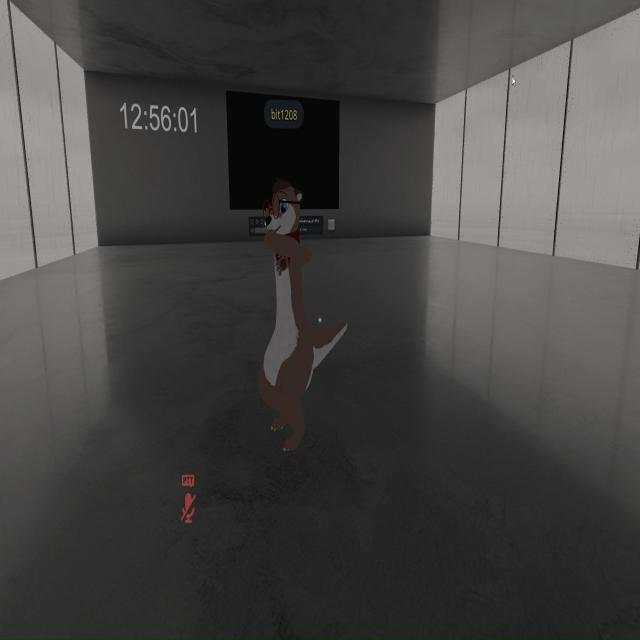human: (239, 176, 348, 457)
